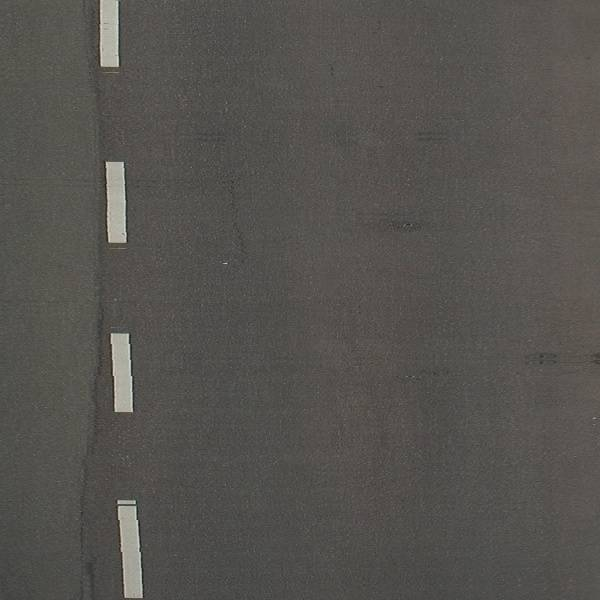road_damage: (73, 271, 109, 569), (219, 175, 257, 273), (512, 346, 571, 371), (391, 214, 431, 235)
